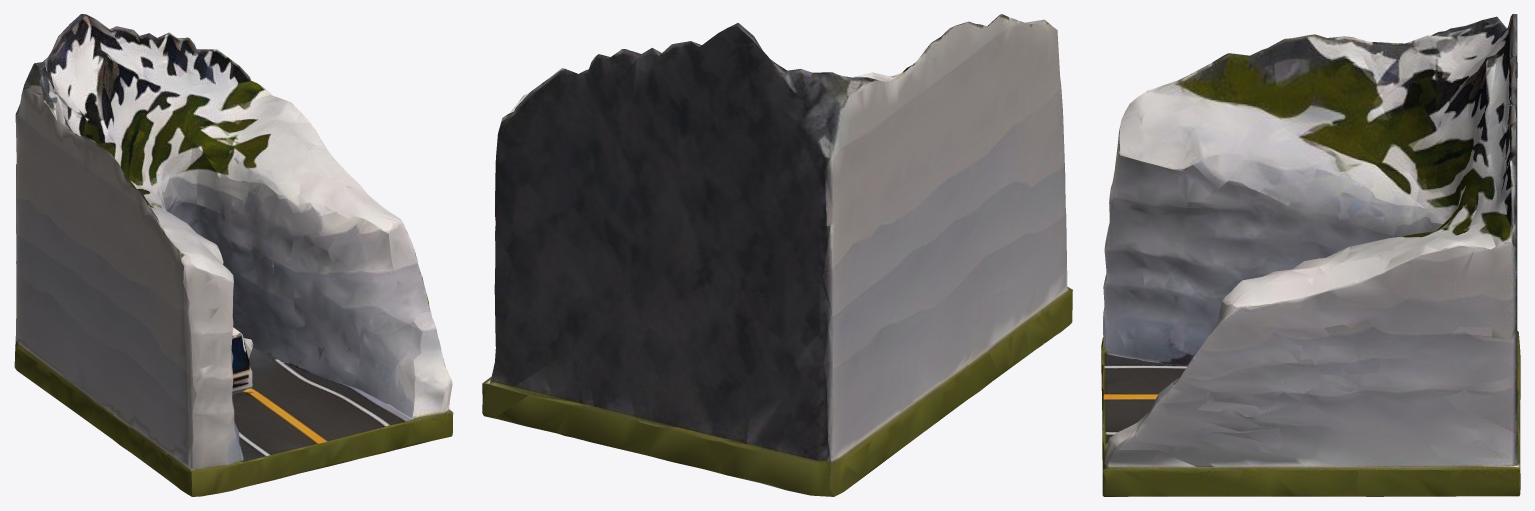
Rendered from tateyama.glb.
3 renders of one model, left to right at view 1: azimuth 30°, elevation 25°; view 2: azimuth 150°, elevation 25°; view 3: azimuth 270°, elevation 25°, orthographic. The views are drawn at different scales.
Visible parts, largest first — view 1: logan-textured.obj; view 2: logan-textured.obj; view 3: logan-textured.obj.
Boxes of the visible parts, left/top/right/bottom form: logan-textured.obj: left=14, top=14, right=453, bottom=496; logan-textured.obj: left=482, top=14, right=1072, bottom=496; logan-textured.obj: left=1101, top=14, right=1520, bottom=496.
Size of the model in its own units: 0.8432 by 0.9994 by 1.
1 material, 1 textured.
